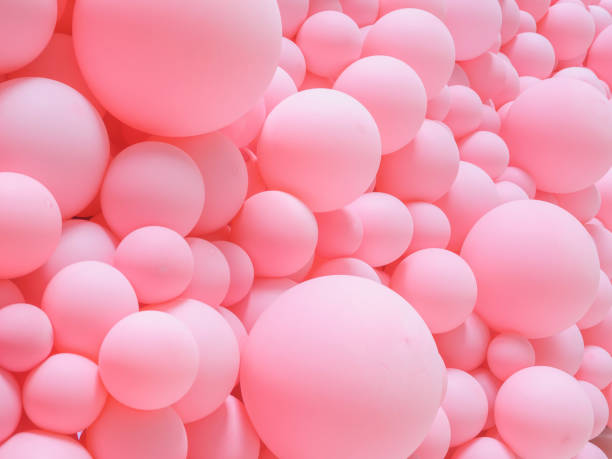Balloon: (242, 274, 443, 459), (71, 1, 283, 136), (456, 199, 599, 334), (255, 89, 382, 208), (506, 79, 612, 196), (100, 312, 198, 411), (493, 366, 591, 459), (103, 145, 202, 234), (231, 192, 318, 280), (21, 353, 105, 432), (393, 258, 477, 334), (1, 173, 60, 280), (112, 226, 192, 300), (1, 303, 56, 374), (298, 11, 360, 70), (537, 4, 594, 58), (504, 33, 554, 78), (438, 86, 482, 131)
